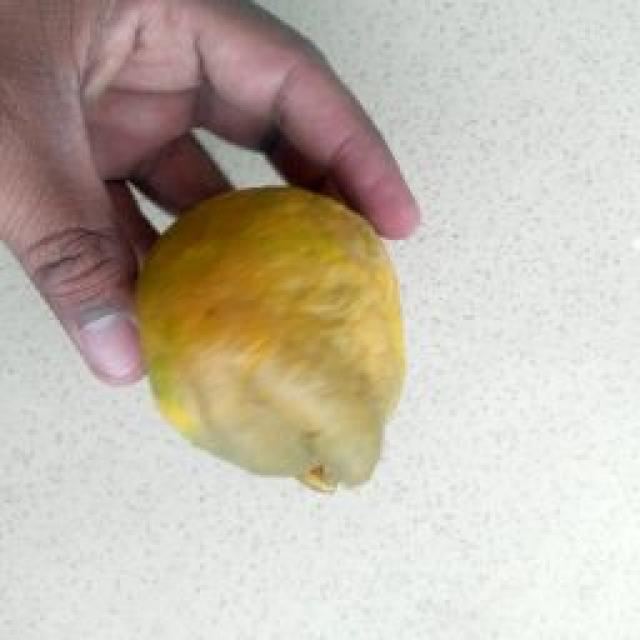Bad_Orange: (138, 189, 405, 482)
